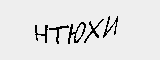И: (103, 12, 120, 40)
Н: (33, 22, 48, 44)
Т: (47, 23, 67, 44)
Х: (83, 15, 101, 46)
Ю: (68, 19, 87, 44)
